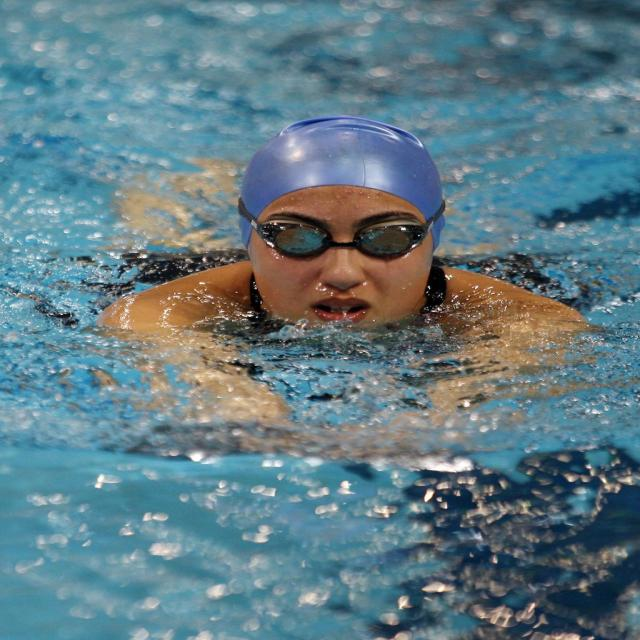Face: (256, 157, 449, 344)
